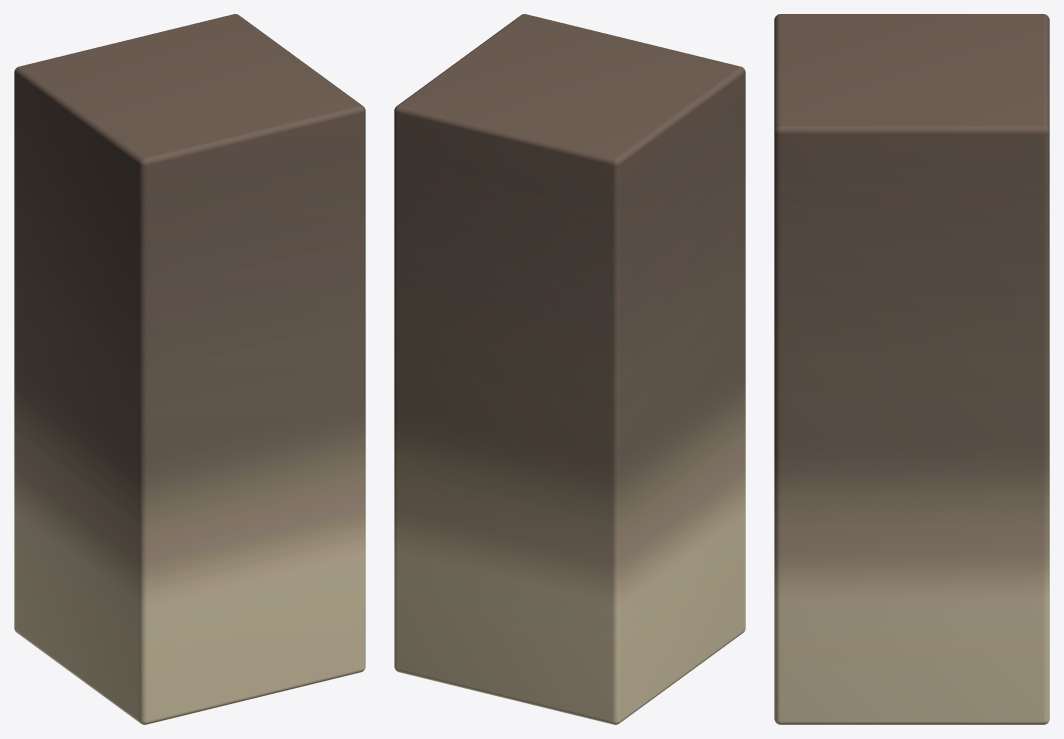
Rendered from monolith_kral_cerny.glb.
3 renders of one model, left to right at view 1: azimuth 30°, elevation 25°; view 2: azimuth 150°, elevation 25°; view 3: azimuth 270°, elevation 25°, orthographic. The views are drawn at different scales.
Visible parts, largest first — view 1: MONOLITH Král – Kouř (černý); view 2: MONOLITH Král – Kouř (černý); view 3: MONOLITH Král – Kouř (černý).
Boxes of the visible parts, x1=… form: MONOLITH Král – Kouř (černý): x1=14, y1=14, x2=365, y2=724; MONOLITH Král – Kouř (černý): x1=394, y1=14, x2=745, y2=724; MONOLITH Král – Kouř (černý): x1=774, y1=14, x2=1049, y2=724.
Size of the model in its own units: 0.03 by 0.072 by 0.03.
Materials: 1 (1 with a texture image).
